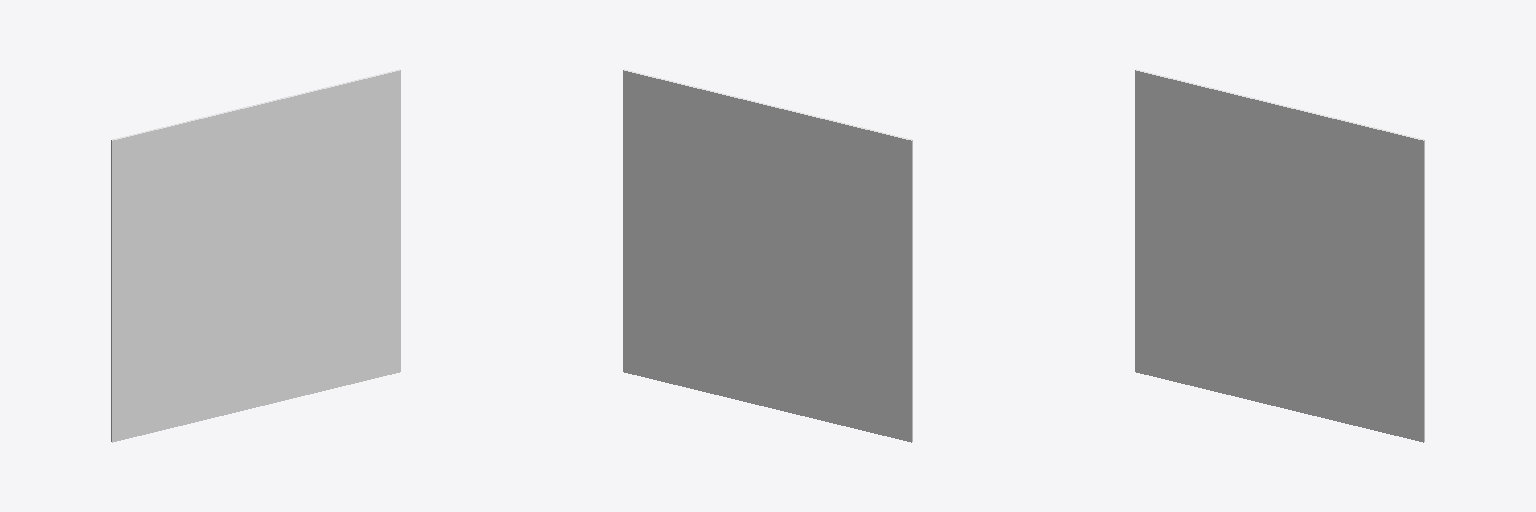
The model's file is haikei2.obj.
3 views of the same model, side by side, from view 1: azimuth 30°, elevation 25°; view 2: azimuth 150°, elevation 25°; view 3: azimuth 330°, elevation 25° (orthographic).
Bounding box in the file's own units: 126 × 126 × 1.